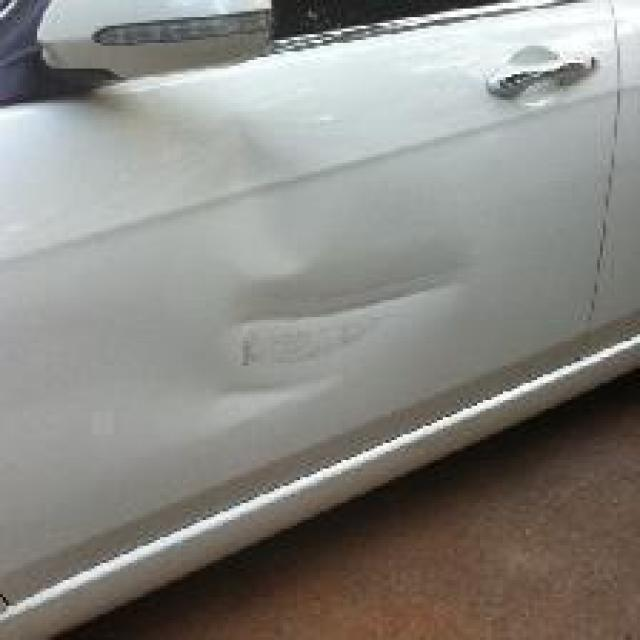damaged: (203, 97, 460, 392)
